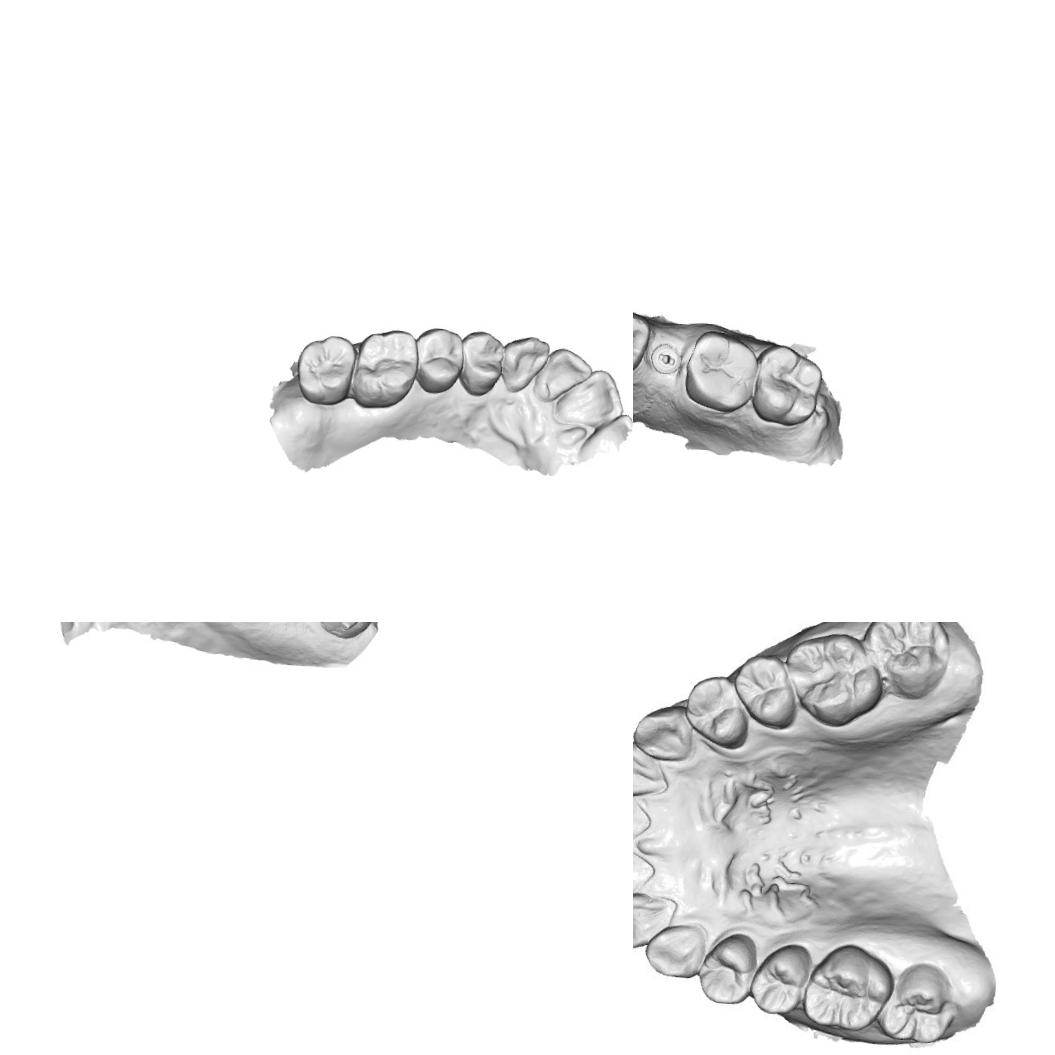canine: (642, 922, 708, 980), (498, 332, 552, 395), (637, 706, 695, 761)
implant_minus: (646, 340, 684, 376)
incisor: (551, 364, 627, 430), (532, 344, 594, 406), (577, 409, 633, 460), (633, 893, 672, 952), (633, 747, 667, 803), (633, 842, 655, 898), (633, 793, 650, 851)
molar: (780, 631, 875, 720), (680, 327, 763, 416), (747, 341, 826, 429), (350, 325, 421, 412), (871, 622, 949, 688), (292, 329, 357, 407)
premolar: (802, 946, 891, 1041), (874, 962, 951, 1042), (744, 940, 808, 1014), (685, 680, 746, 746), (700, 933, 758, 1001), (412, 324, 464, 397), (739, 656, 794, 722), (456, 327, 506, 398), (633, 304, 652, 376)
